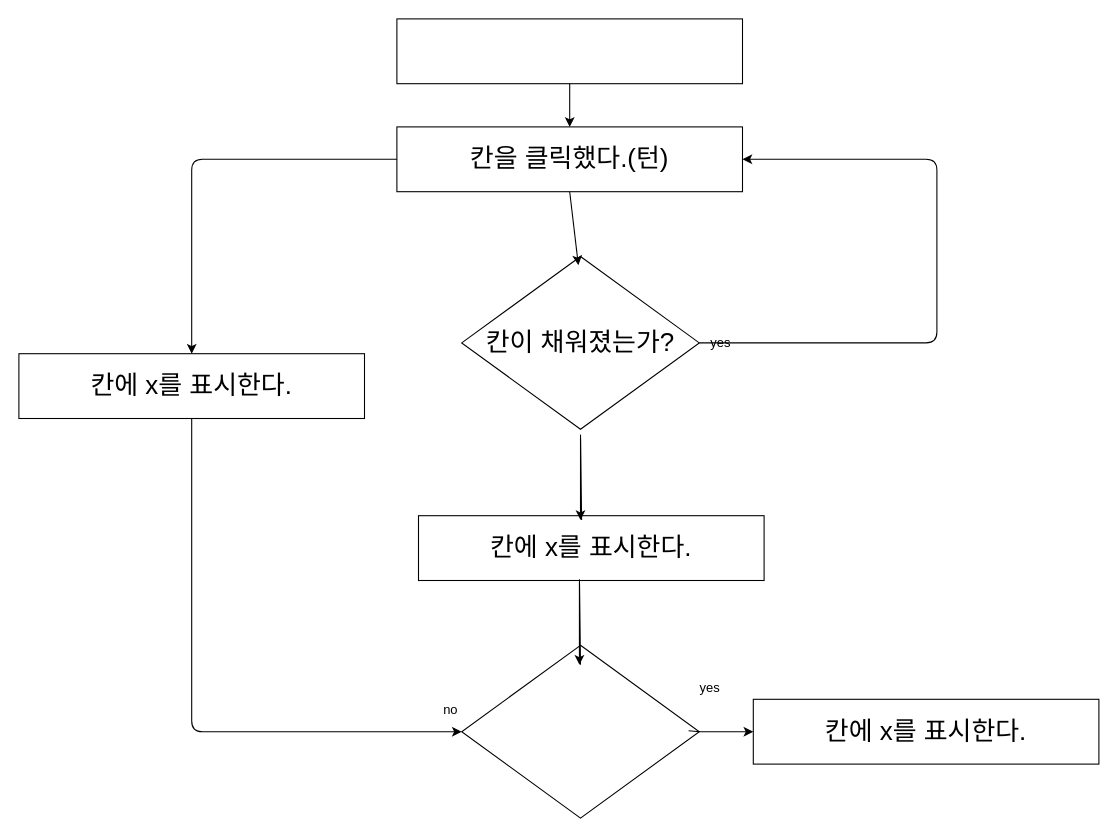
Image size: 1118x837. Some labels were removed from this diagram. The shapes that lost their labels are listed below. From the top down, each one's centre as x and y in pixels, then its label:
[569,51]: 3*3 칸을 준비한다 x턴
[580,731]: 세줄이 되었나?
